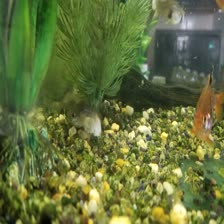Guppy: (154, 0, 186, 29)
Transparente: (185, 75, 223, 145)
